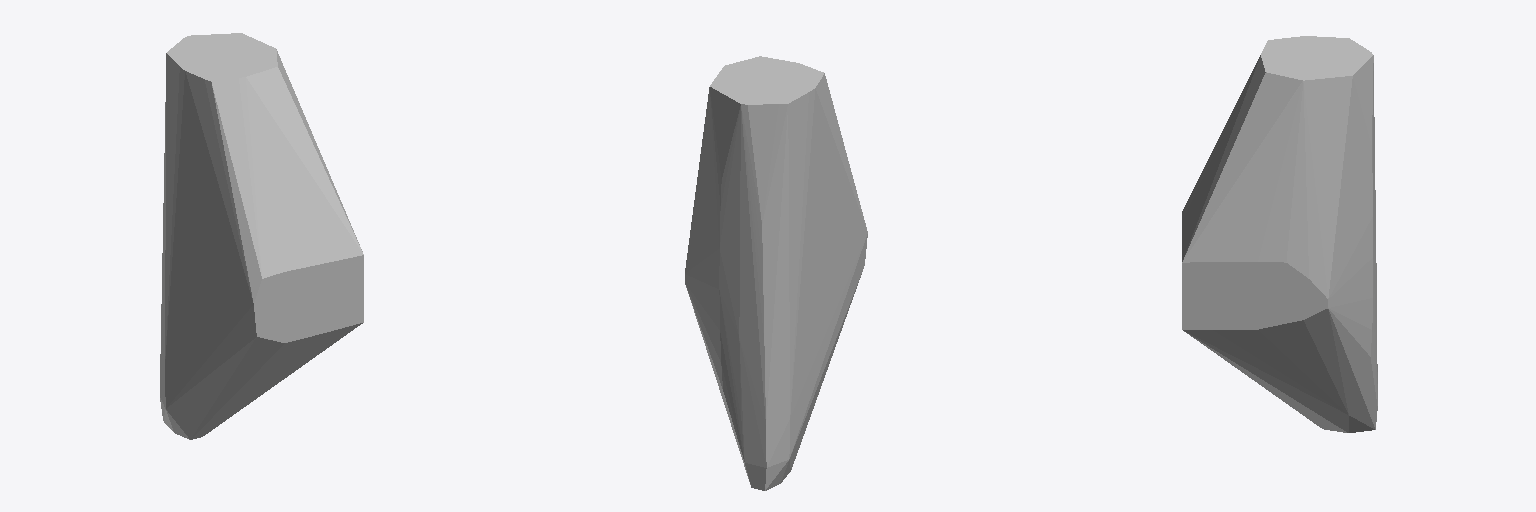
The model's file is sofa_collision_20.obj.
3 views of the same model, side by side, from view 1: azimuth 30°, elevation 25°; view 2: azimuth 150°, elevation 25°; view 3: azimuth 270°, elevation 25° (orthographic).
Bounding box in the file's own units: 28.1 × 86.7 × 40.23.